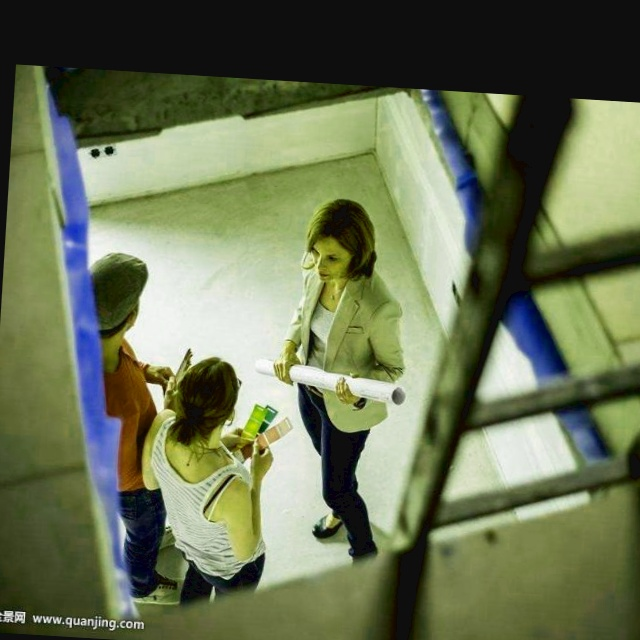Sin_Casco_Mascarrilla: (304, 194, 380, 282)
